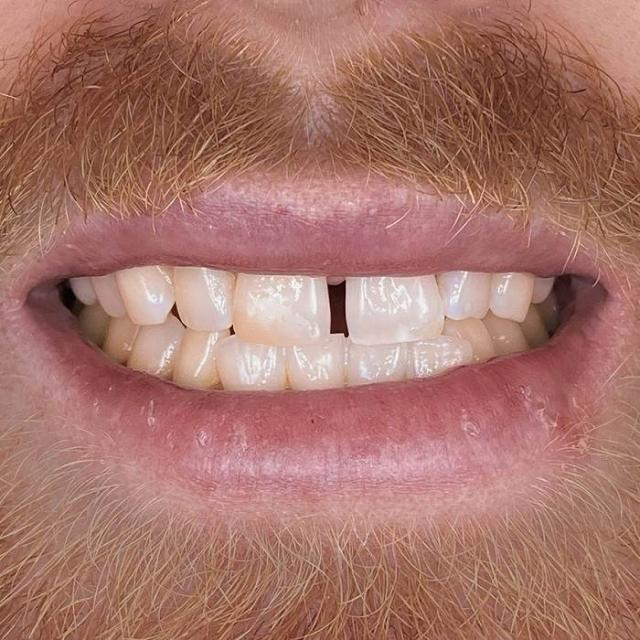Crowding: (118, 267, 223, 332), (186, 338, 264, 393)
Gap: (287, 274, 381, 344)
